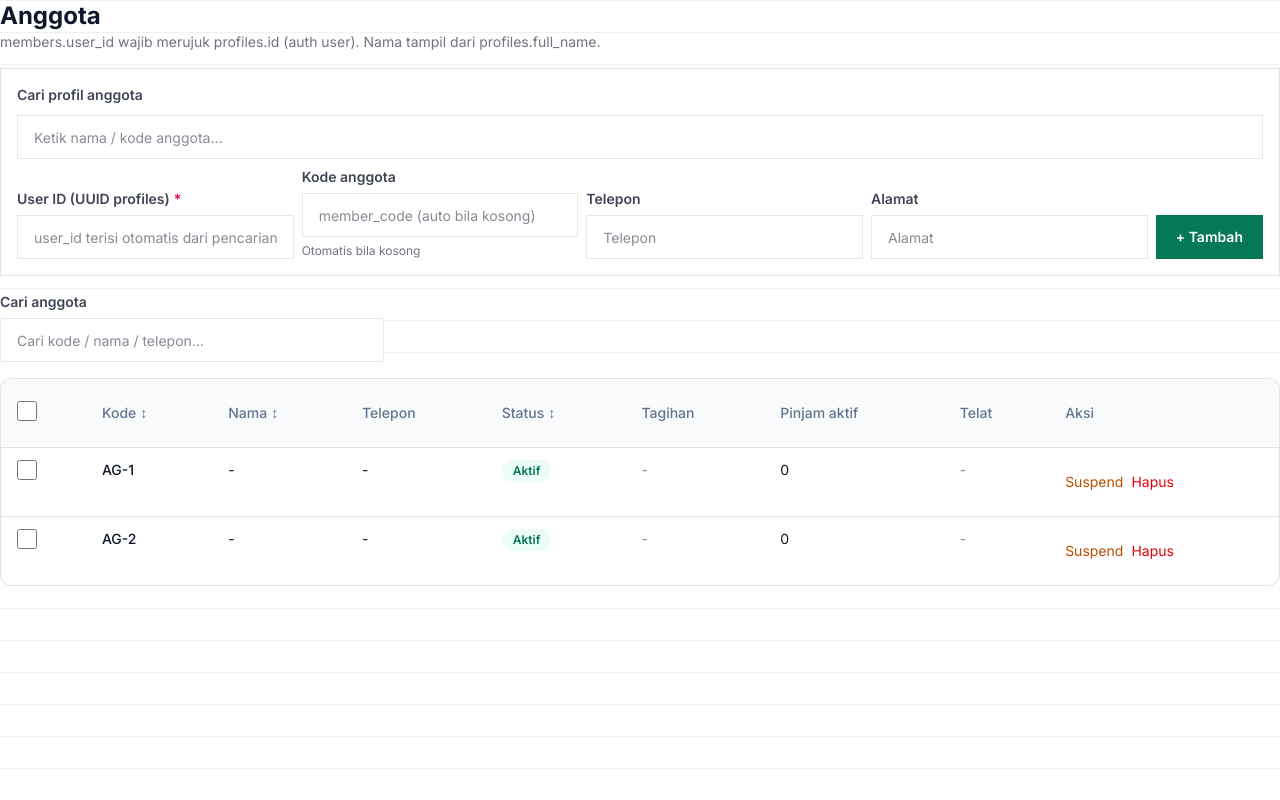
Test: #59 bulk delete anggota › salah satu id 409 -> ringkasan dilewati tampil (bukan alert diam)
expect the number of buttons named "hapus anggota" is 2: met, box [1131, 460, 1174, 504]; [1131, 529, 1174, 573]
Step 1. Click the checkbox named "Pilih semua baris" → (27, 410), box [17, 400, 37, 420]
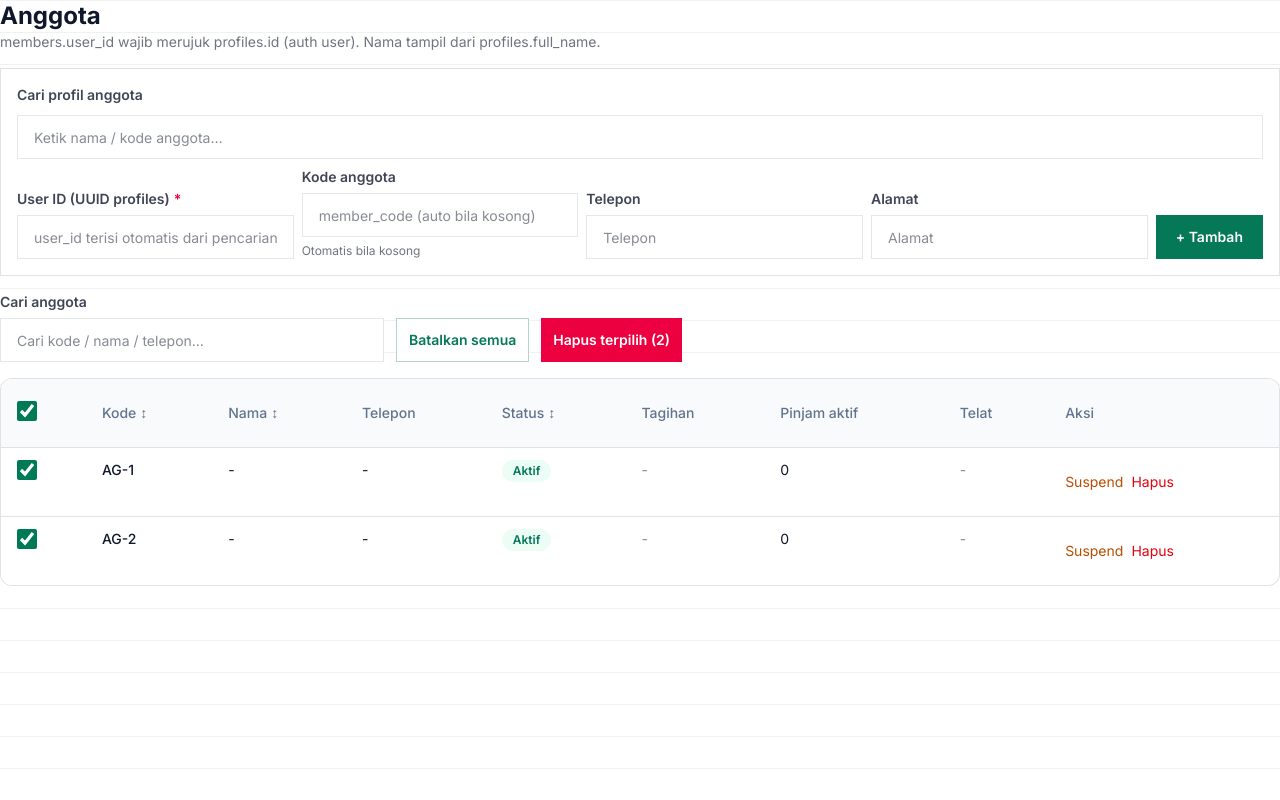
Step 2. Click the button "Hapus terpilih (2)" → (612, 340), box [541, 318, 682, 362]
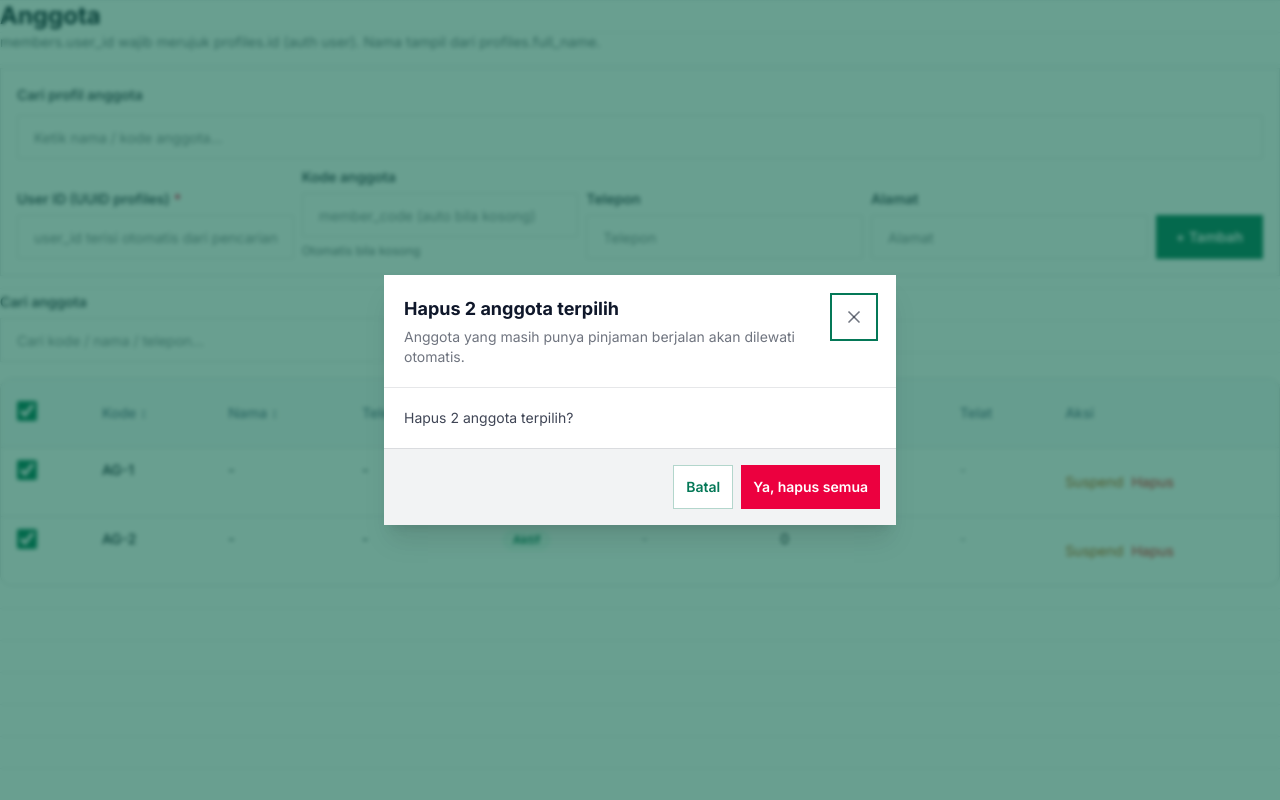
Step 3. Click the button "Ya, hapus semua" → (811, 487), box [741, 465, 880, 509]
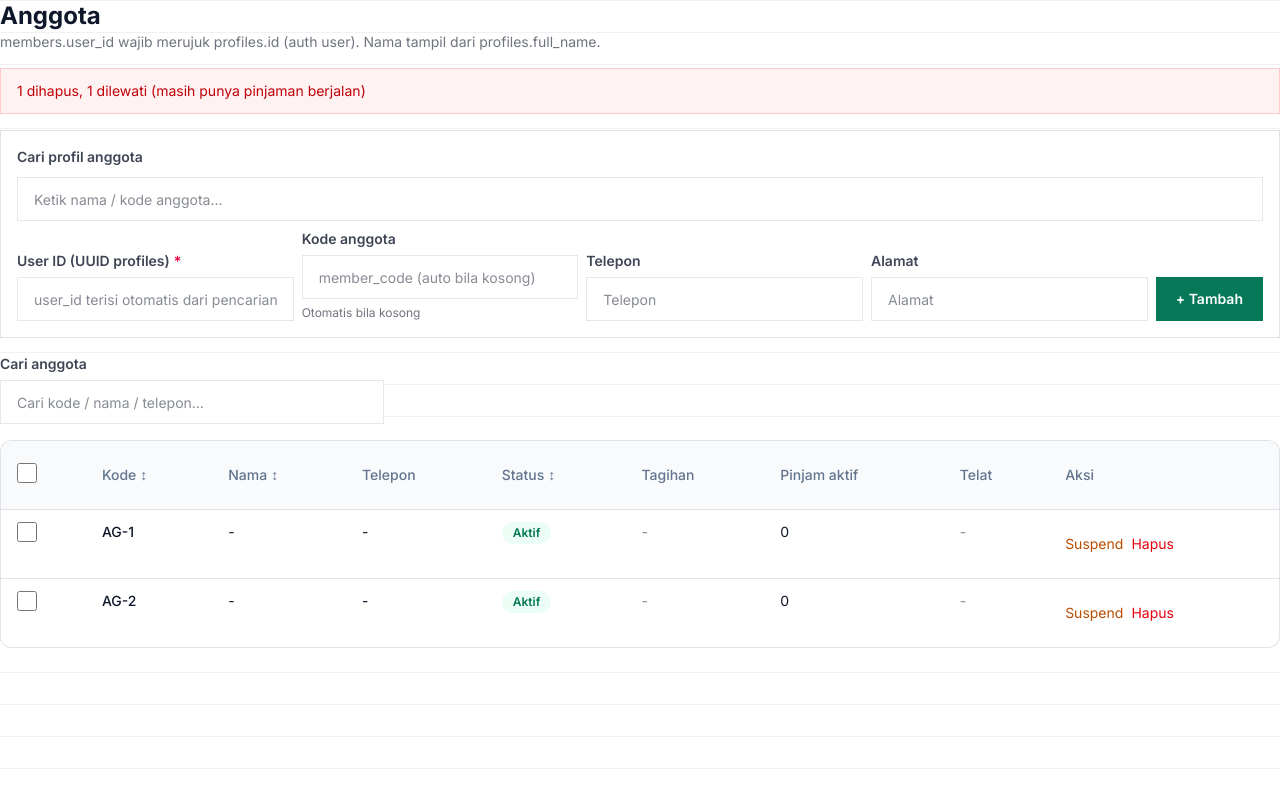
expect the message shows "dilewati": met, box [17, 82, 366, 99]
